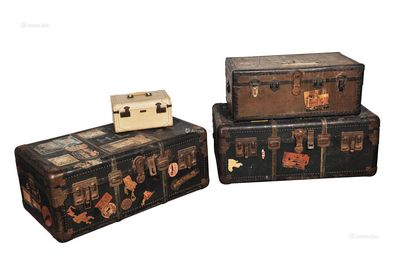shoutibox: (224, 50, 364, 122)
